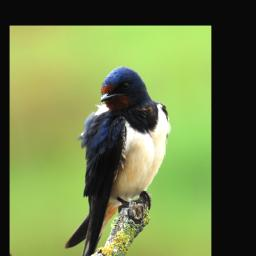Swallow: (39, 58, 190, 256)
